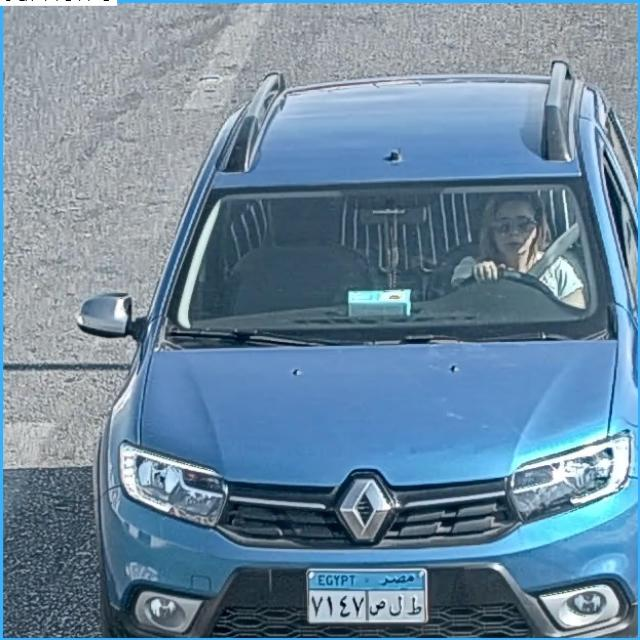windshield: (162, 186, 612, 333)
